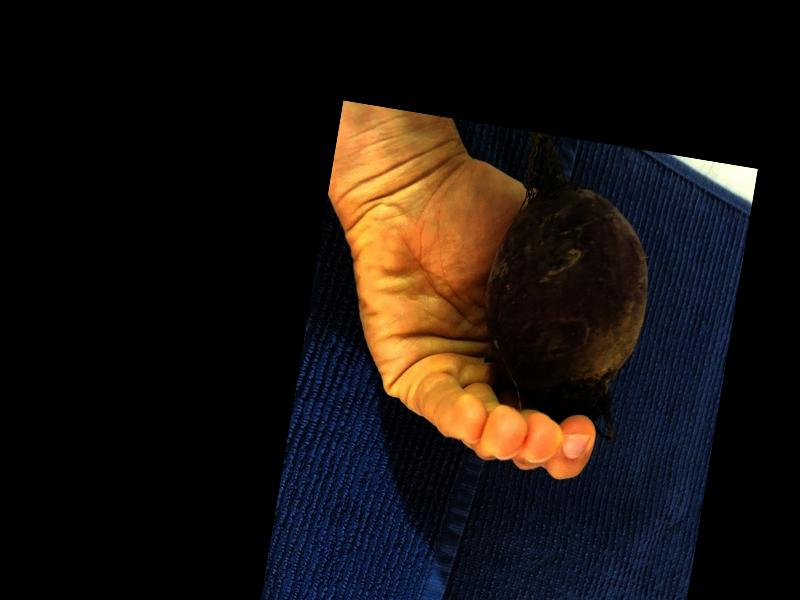Beet: (463, 131, 669, 446)
